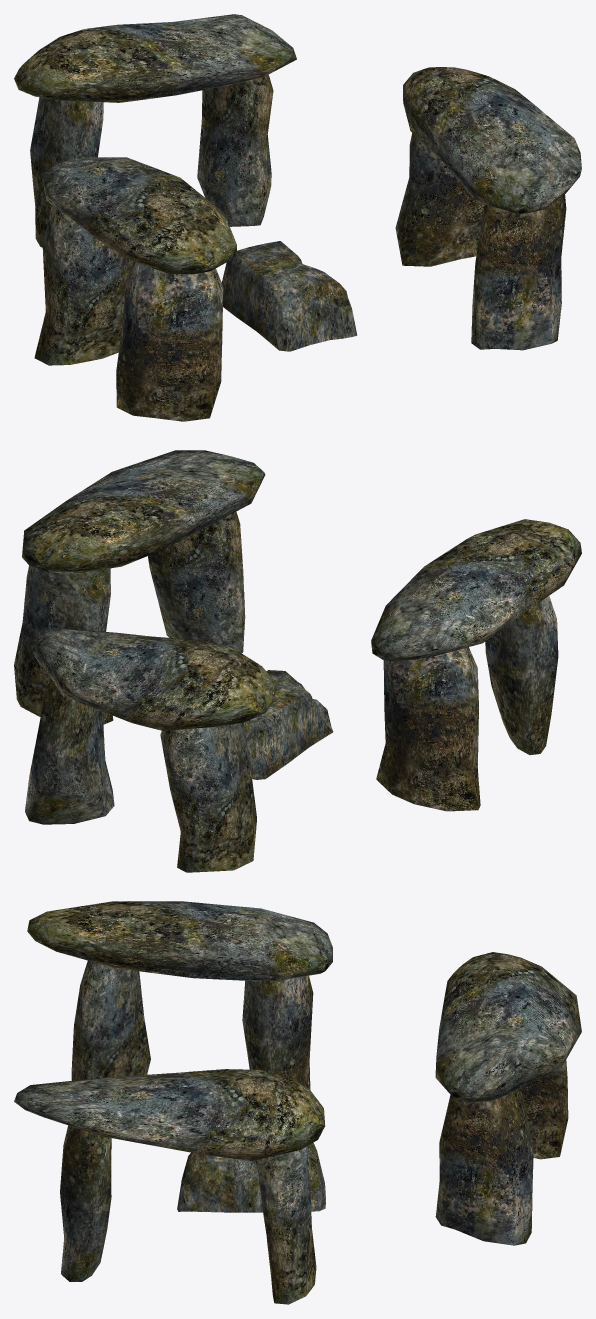
Rendered from NW_NATURE_STONE_CULT_SCENE_01.glb.
3 views of the same model, one above another, from view 1: azimuth 30°, elevation 25°; view 2: azimuth 150°, elevation 25°; view 3: azimuth 270°, elevation 25° (orthographic).
Parts seen in each view (by area): view 1: Mesh; view 2: Mesh; view 3: Mesh.
Part boxes in pixels (bbox=[...]): Mesh: bbox=[14, 14, 581, 421]; Mesh: bbox=[14, 450, 581, 872]; Mesh: bbox=[14, 901, 581, 1304].
Size of the model in its own units: 13.73 by 5.63 by 14.4.
1 material, 1 textured.
